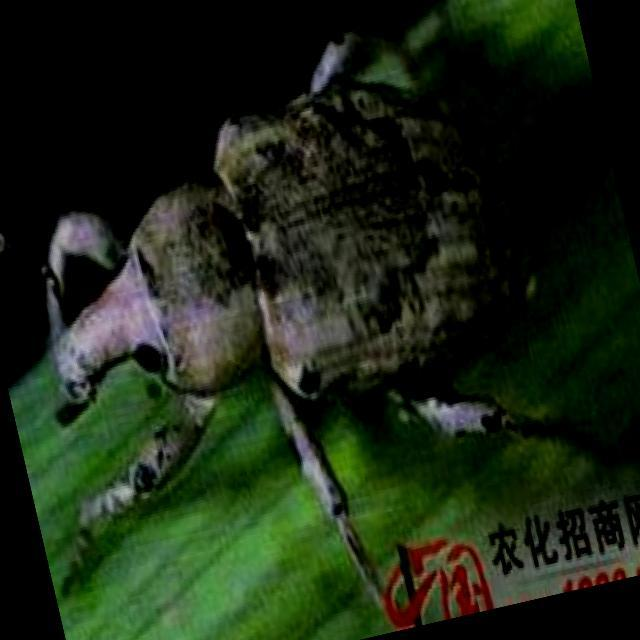ricebug: (46, 43, 511, 569)
